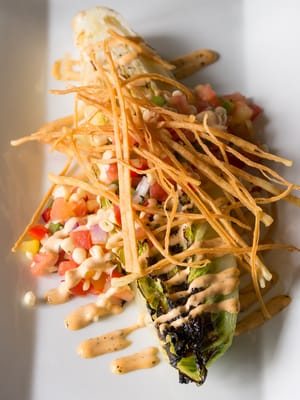sushi: (8, 5, 300, 396)
